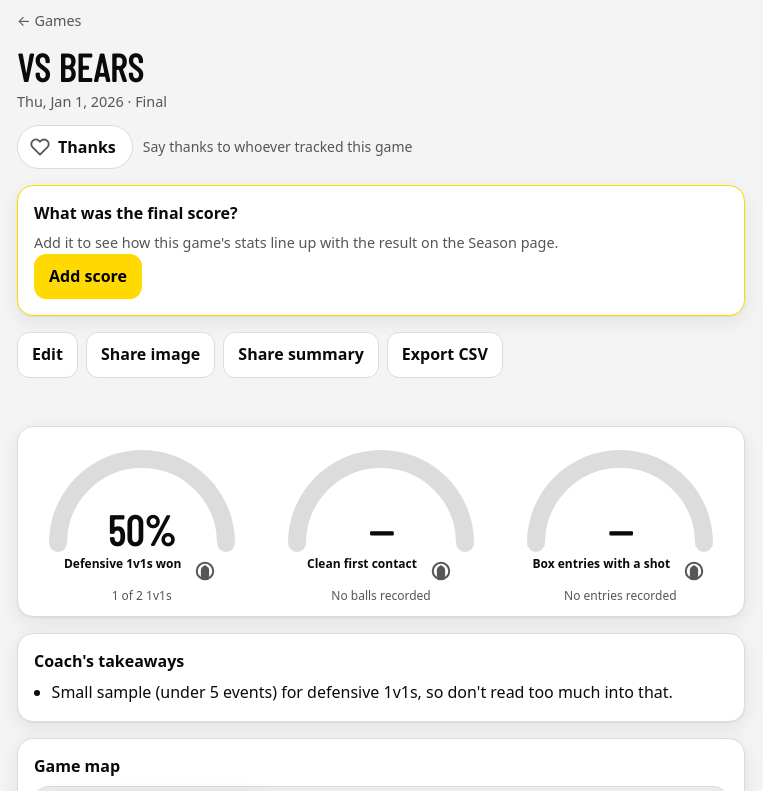
Test case: GameSummaryPage › gives and takes back a heart without changing a single stat
Click the button "Thanks" at (75, 147), box [17,125,133,169]
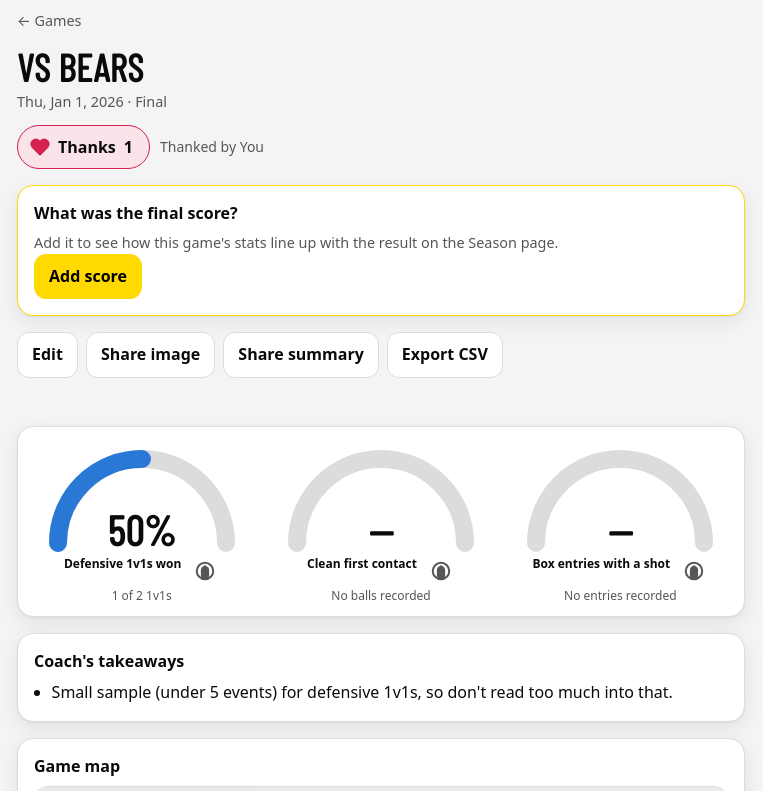
Expected: the text "1 of 2 1v1s" is shown, [112,587,172,604]
Expected: the text "Thanked by You" is shown, [160,137,264,157]
Click the button "Thanks 1" at (84, 147), box [17,125,150,169]
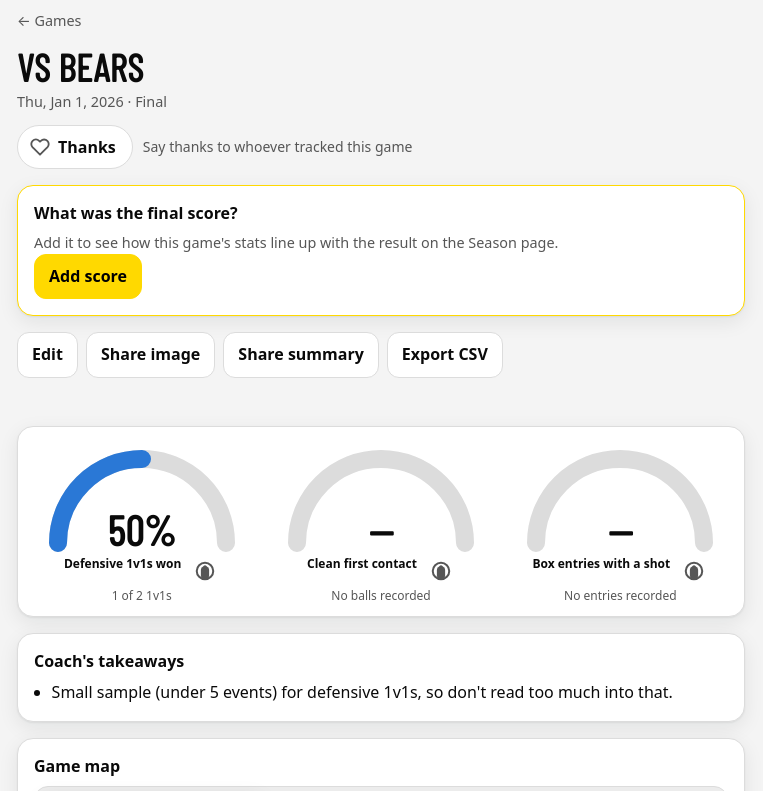
Expected: the text "Thanked by" is gone
